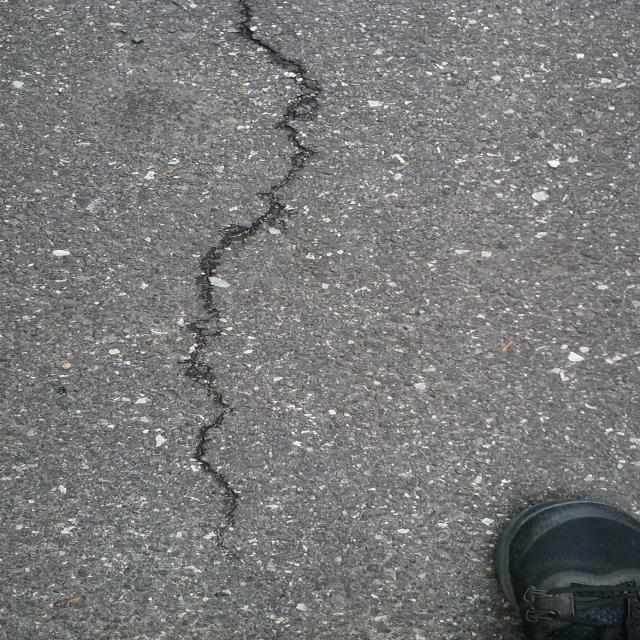Crack: (171, 0, 323, 561)
